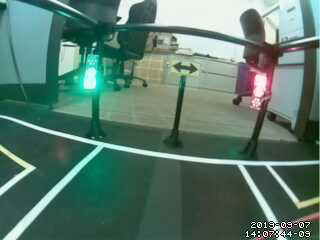Left_Right_sign: (166, 56, 204, 76)
Traffic_light_green: (77, 47, 102, 105)
Traffic_light_red: (247, 70, 274, 118)
